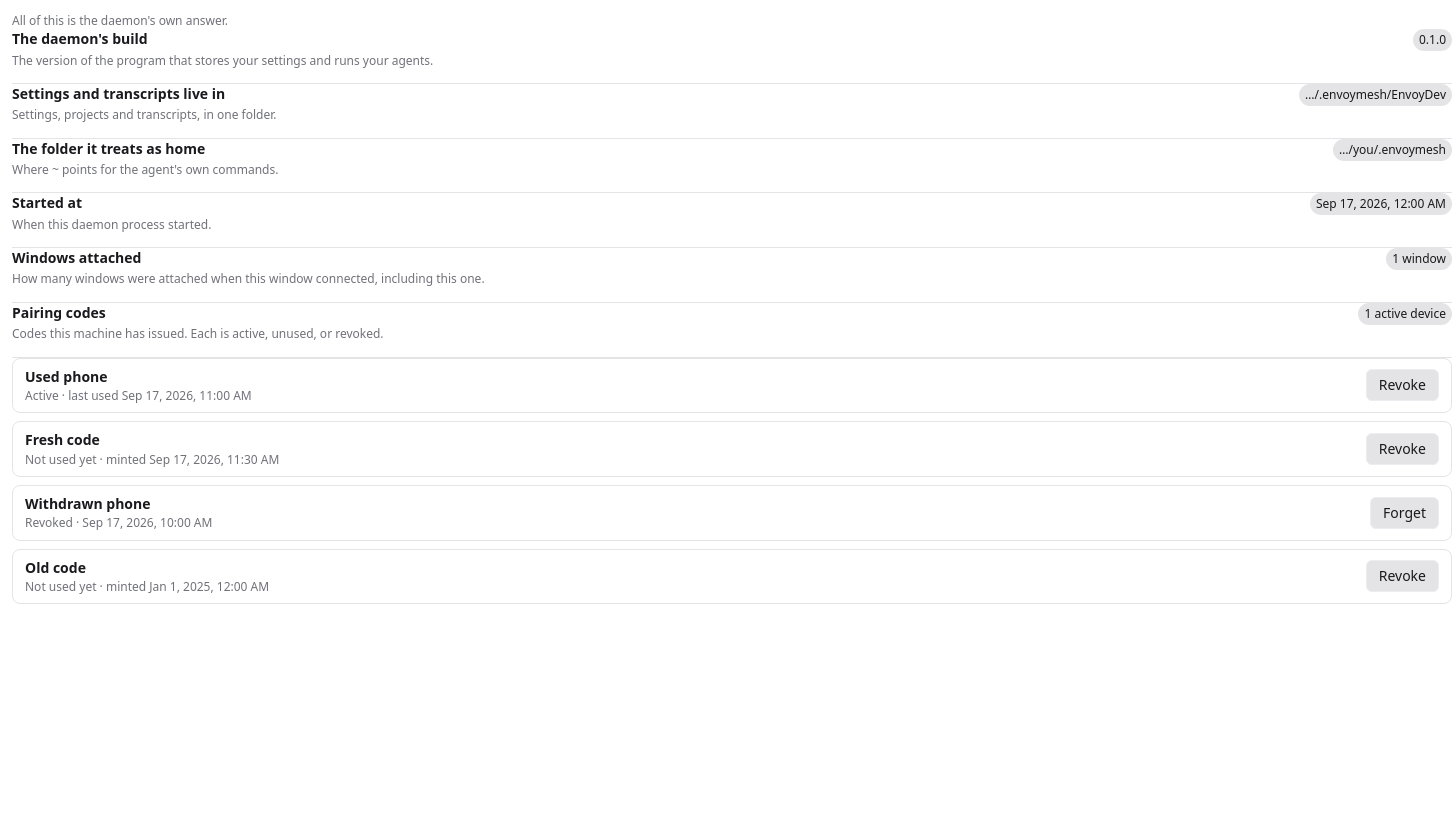
Test: the pairing list's count and its rows › clears a revoked row on the press, and the chip does not move
The width and height of the screenshot is (1452, 822).
Expected: the element with test id "paired-active-count" does not show "…"
Click the button "Forget": (1404, 513) [1370,497,1439,529]
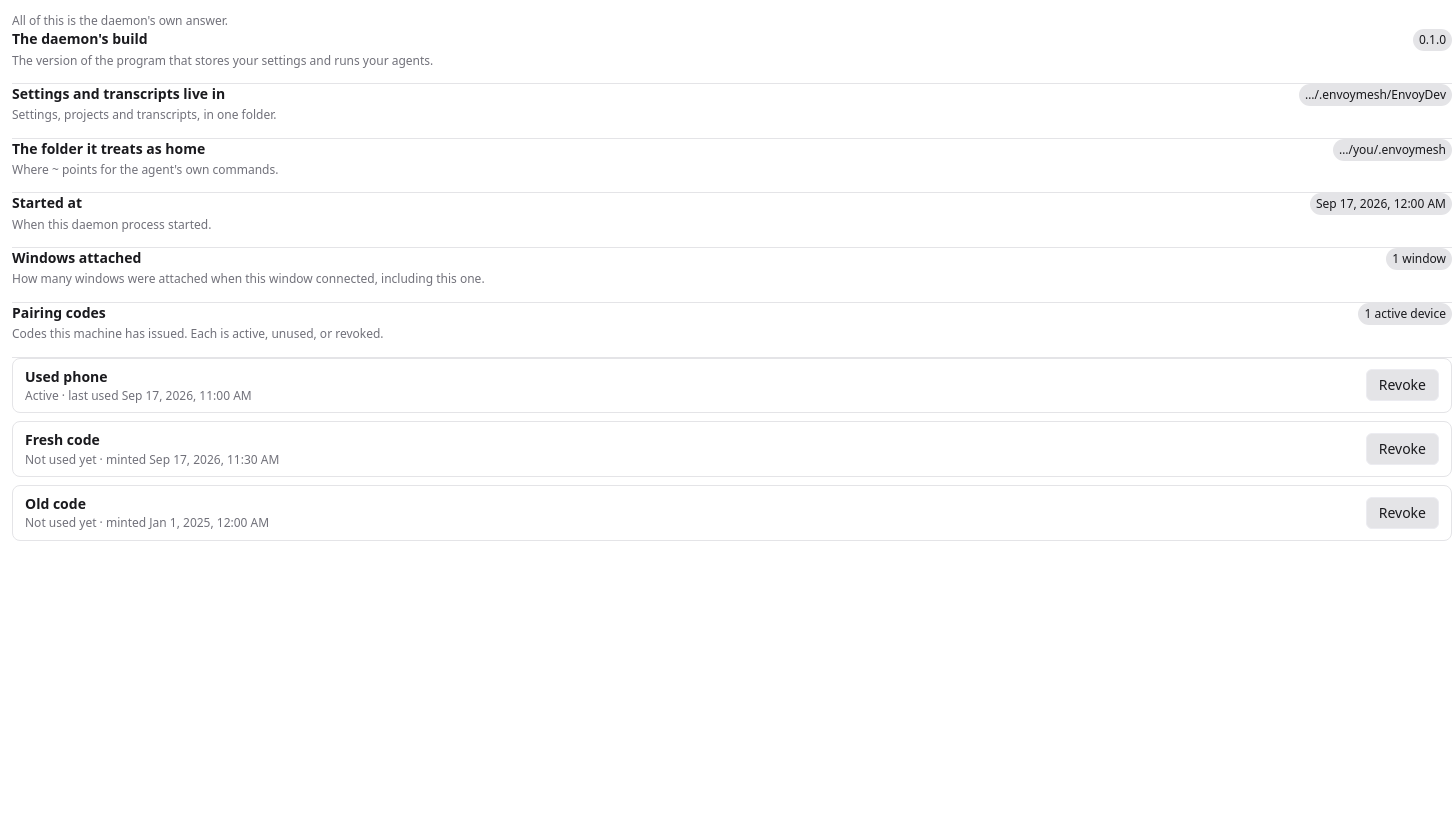
Expected: the element with test id "paired-active-count" does not show "…"
Expected: the text "Withdrawn phone" is gone
